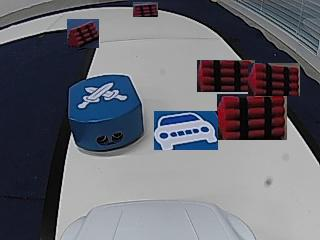spy: (78, 82, 126, 108)
